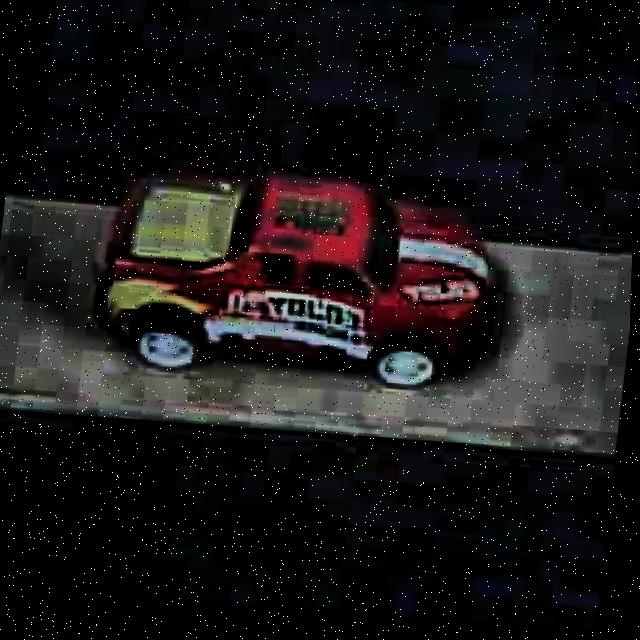car: (83, 150, 513, 403)
